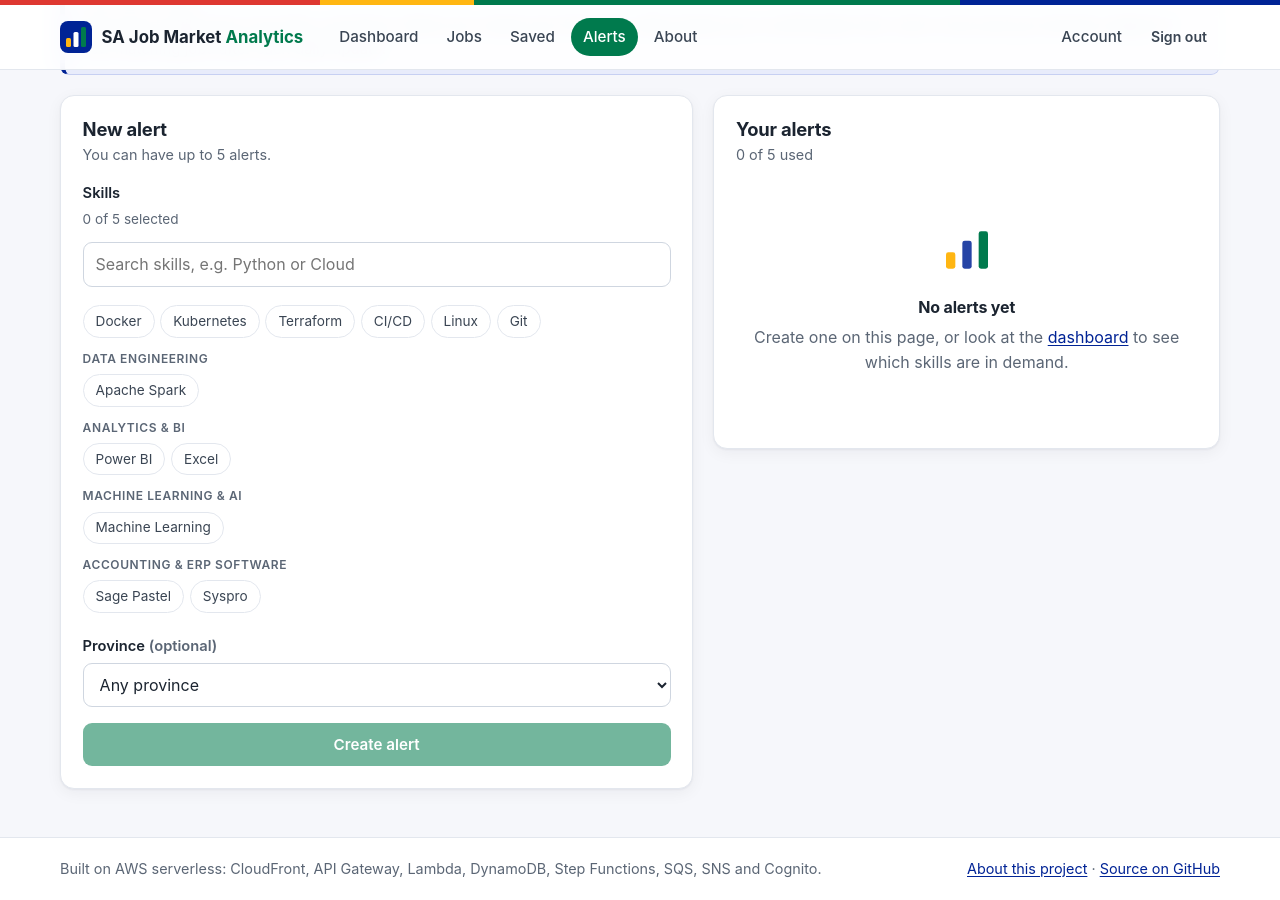
Scenario: Alerts › shows a clear message when the server answers limit_reached
(page scrolled)
Click the button "Excel".
click(201, 459)  # box [171,443,231,475]
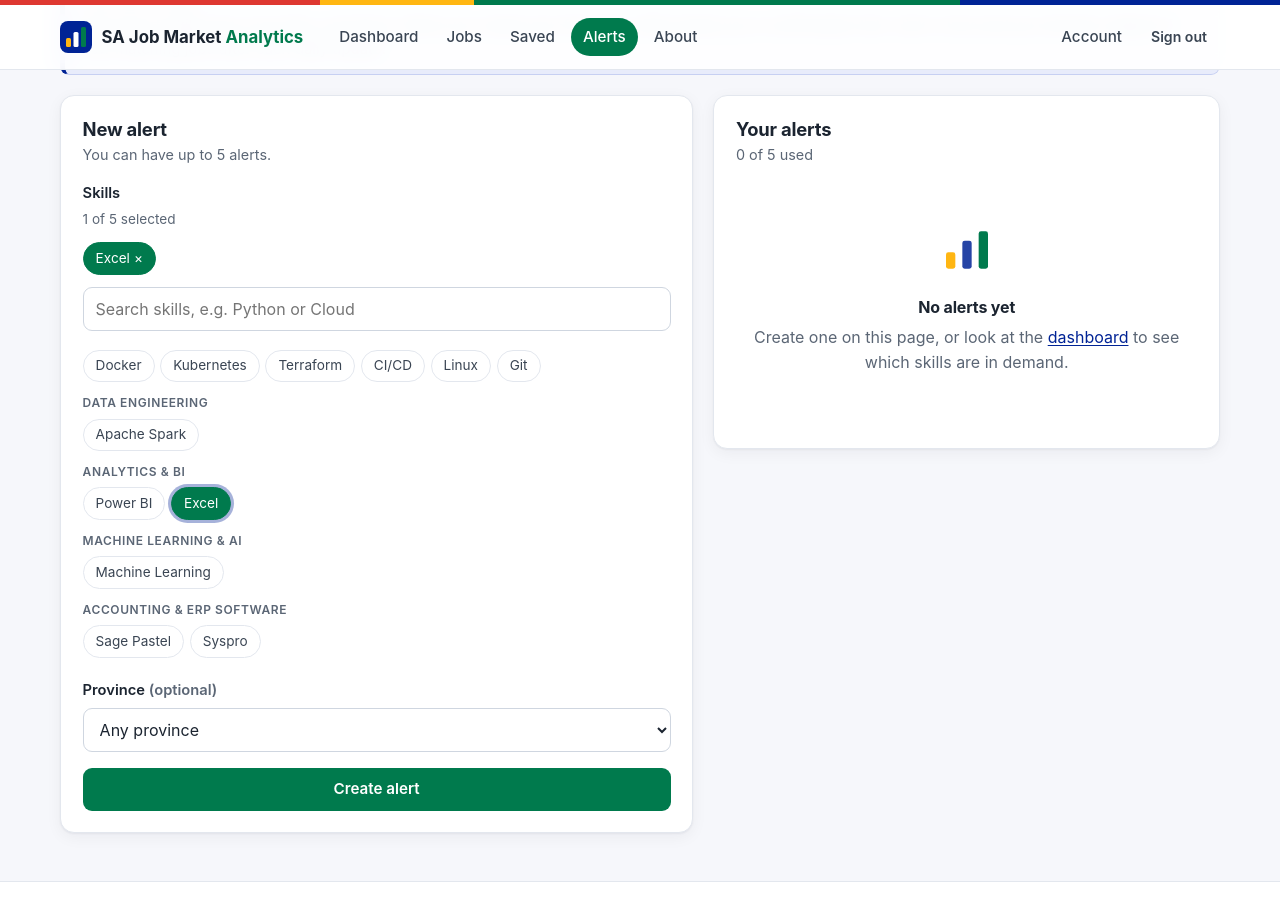
Click the button "Create alert".
click(377, 789)  # box [83,768,671,811]
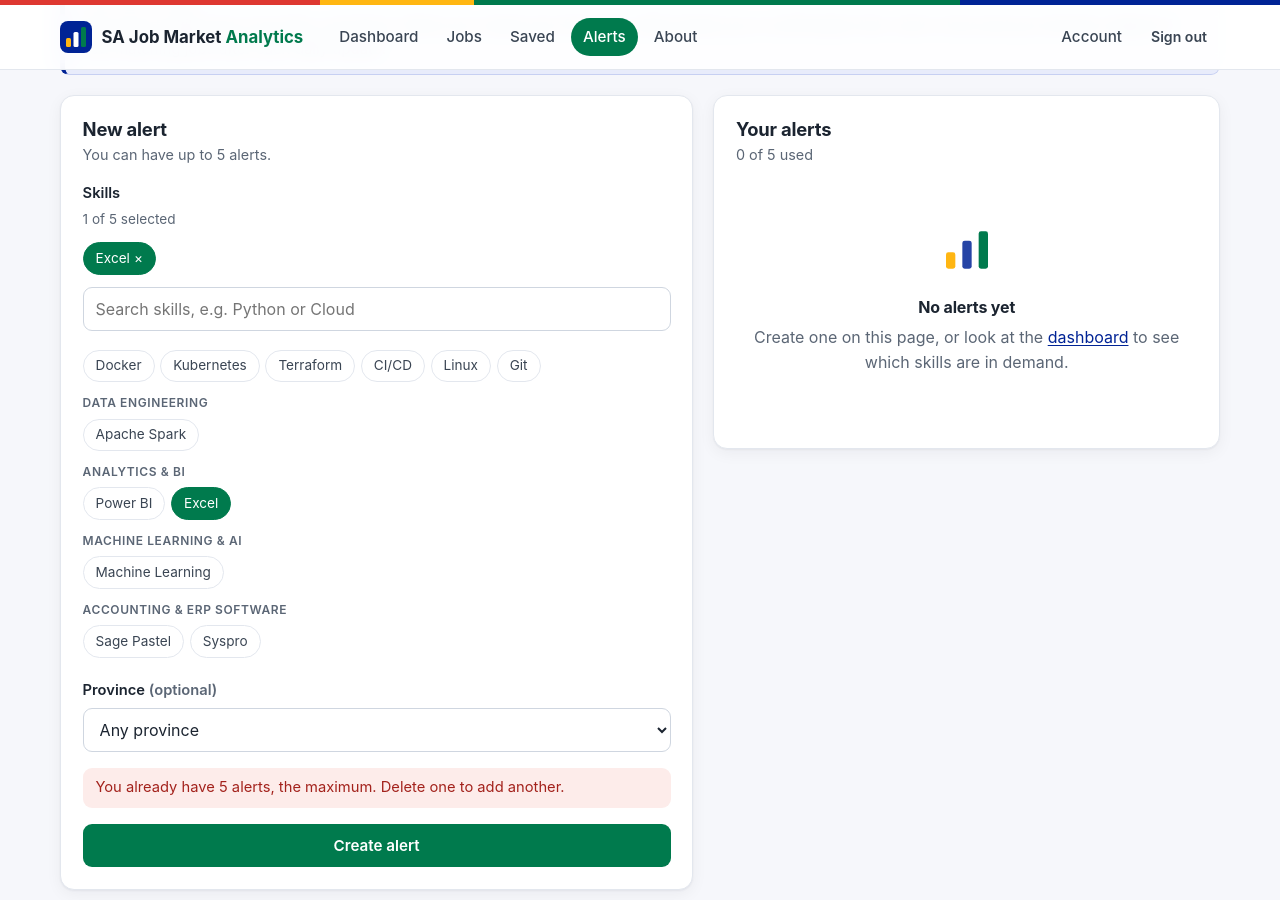
Expected: the message shows "already have 5 alerts", [95,778,564,796]
